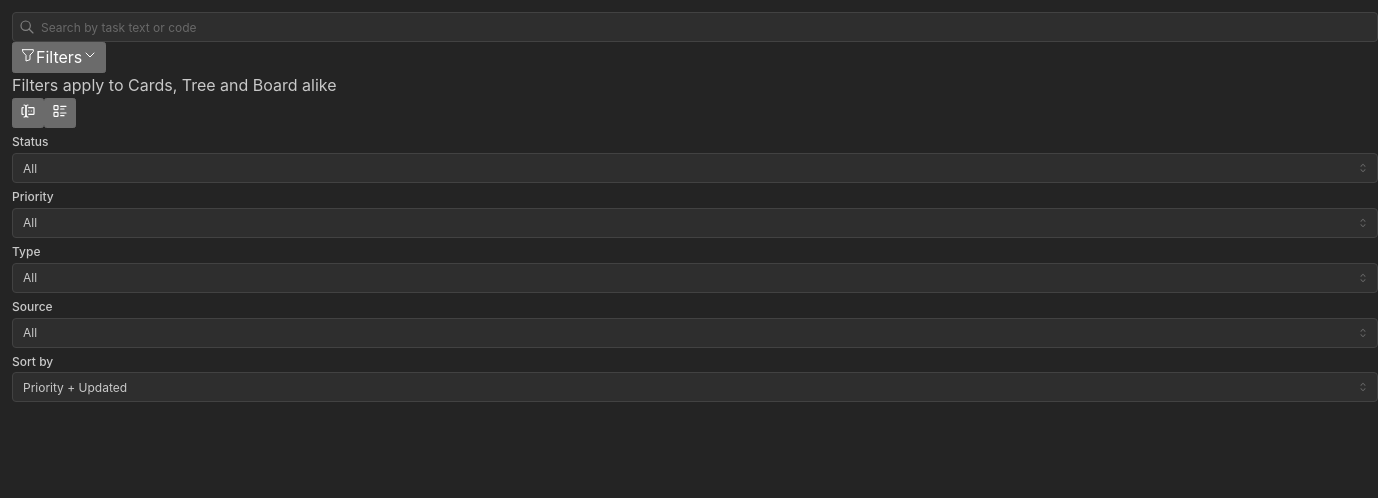
it: TaskFilters — the unreviewed selection › is offered under the Delegated lens
Click the field labelled "Status". click: [695, 168]
box: [12,153,1377,183]
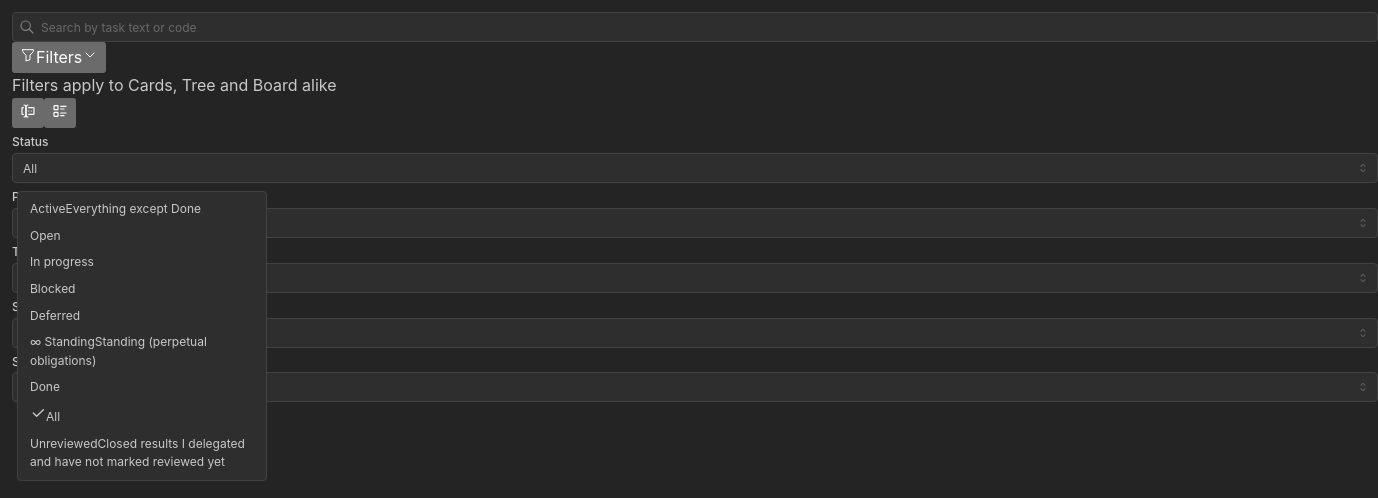
Now the option "Unreviewed" is shown, box [22,430,262,476]
